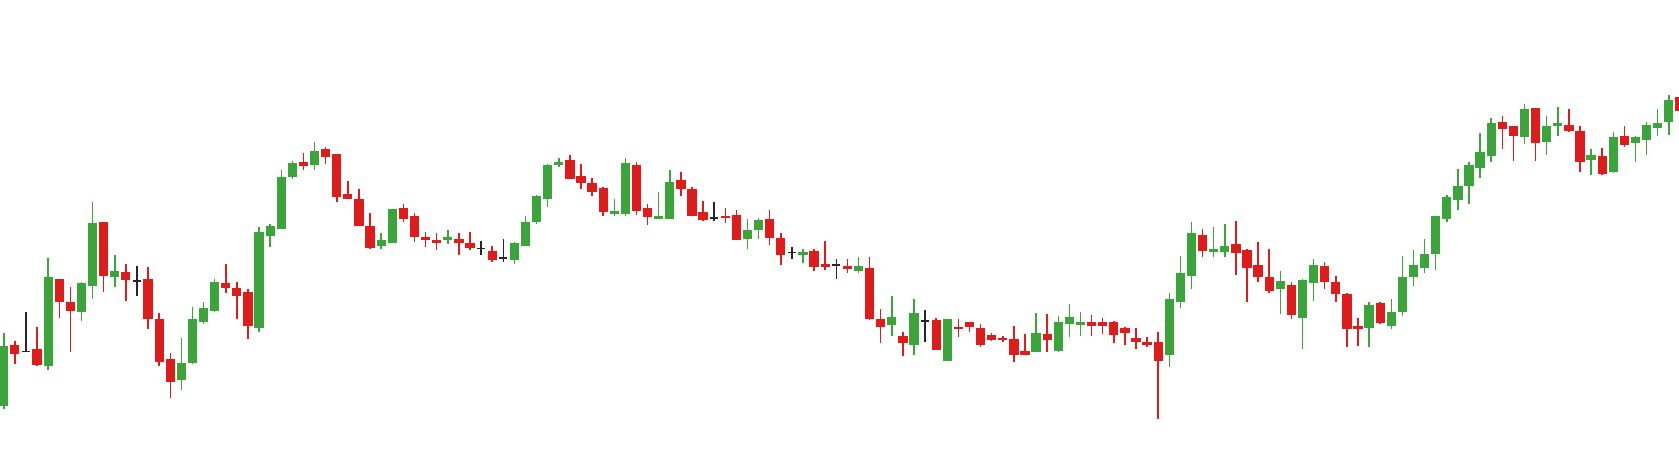buy: (29, 299, 188, 406)
